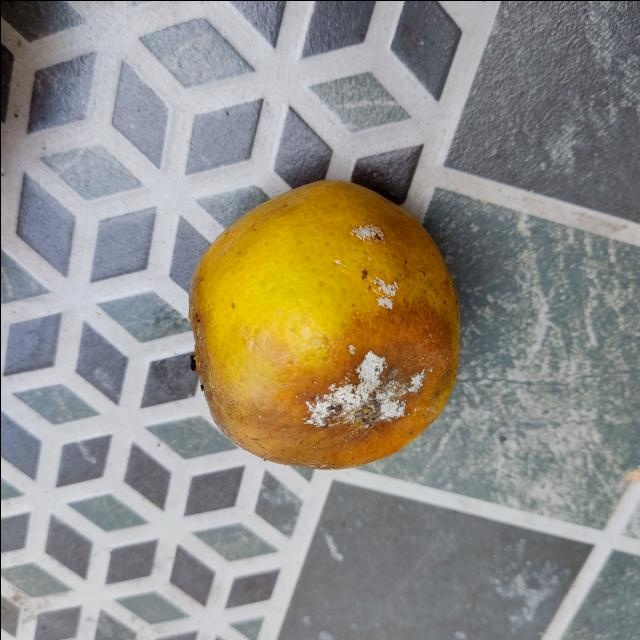agrume: (184, 176, 462, 470)
